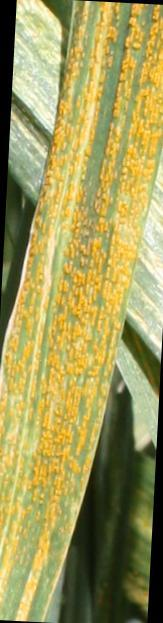Wheat: (4, 346, 68, 617), (68, 258, 134, 453), (39, 155, 156, 254), (80, 12, 156, 146)
